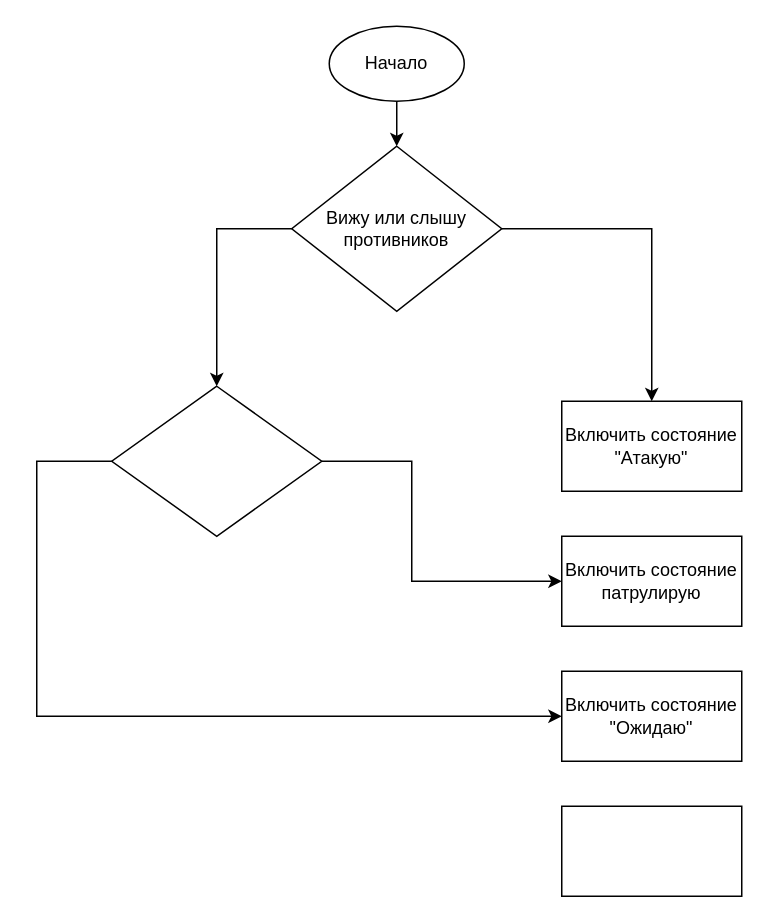
Image size: 768x923. Some labels were removed from this diagram. The box of each missing label's shape, as (x1, y1, x2, y2) in pixels:
Включить состояние "Следовать за лидером": (560, 805, 742, 896)
Есть ли место патрулирования: (110, 385, 322, 536)
